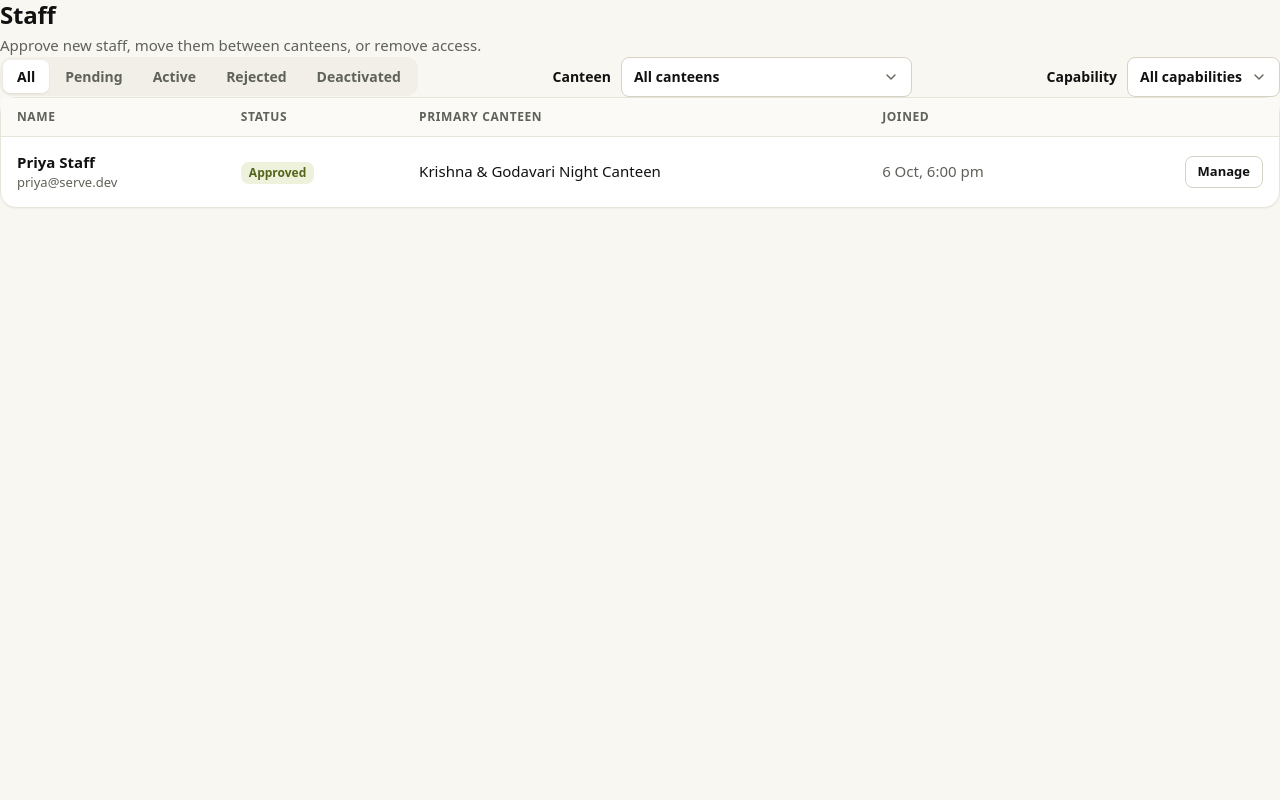
it: dedicated account permissions › never offers to grant a second canteen
The width and height of the screenshot is (1280, 800).
Click the button with aria-label "Manage Priya Staff" at (1224, 172), box [1185,156,1263,188]
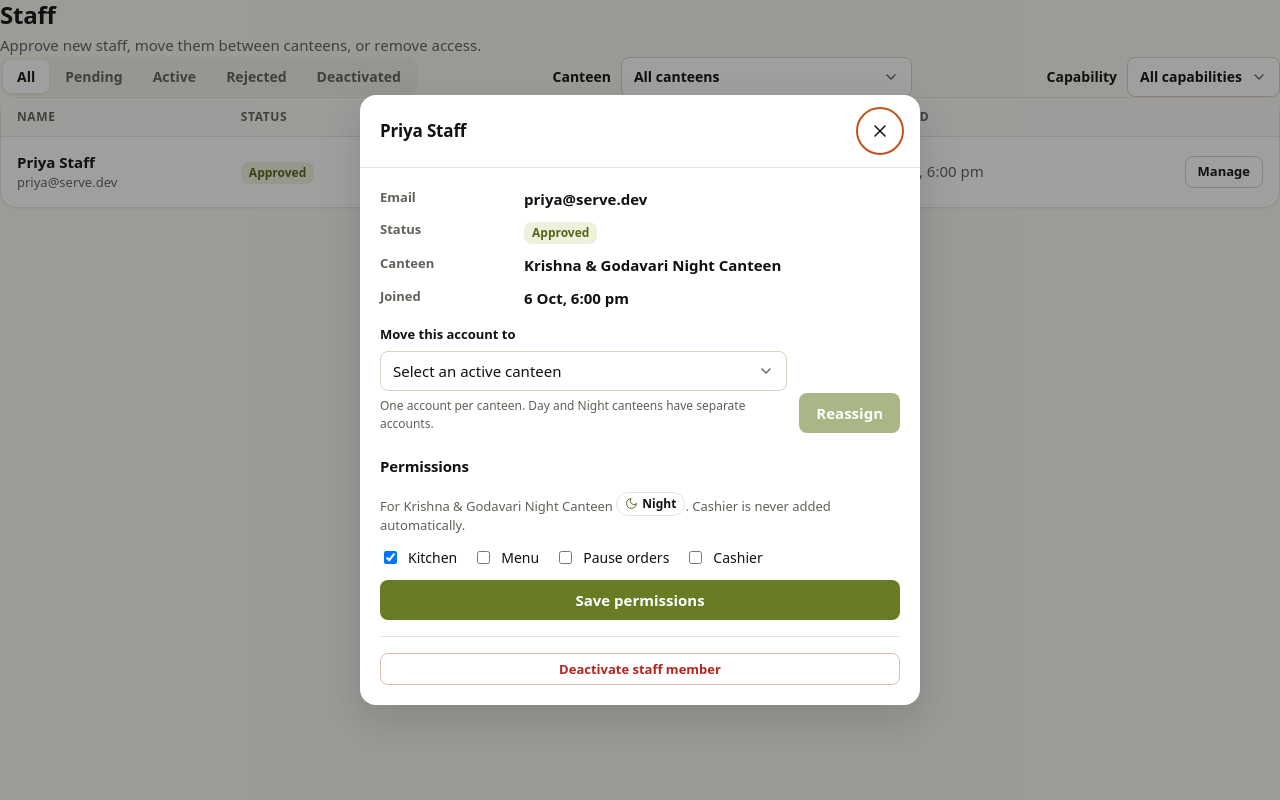
Expected: the text "For Krishna & Godavari Night Canteen" is shown, [380,492,900,535]
